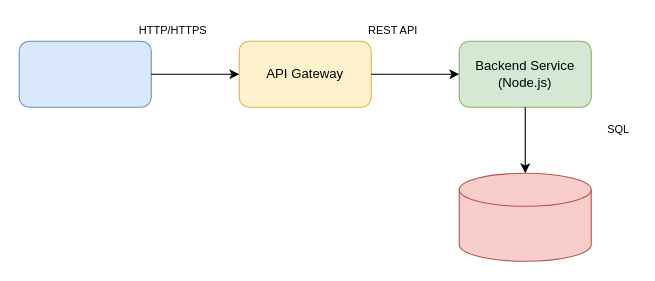
This 655x281 diagram has some shape labels left out. The centre of each missing label's shape, as x and y in pixels:
"Database (PostgreSQL)" goes at pixel 524 216.
"Frontend (React App)" goes at pixel 84 73.
